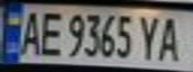3: (81, 10, 103, 57)
5: (115, 11, 136, 60)
6: (100, 10, 118, 60)
9: (63, 9, 84, 58)
A: (154, 12, 187, 63), (15, 7, 45, 56)
E: (36, 8, 63, 57)
Y: (136, 11, 163, 62)
